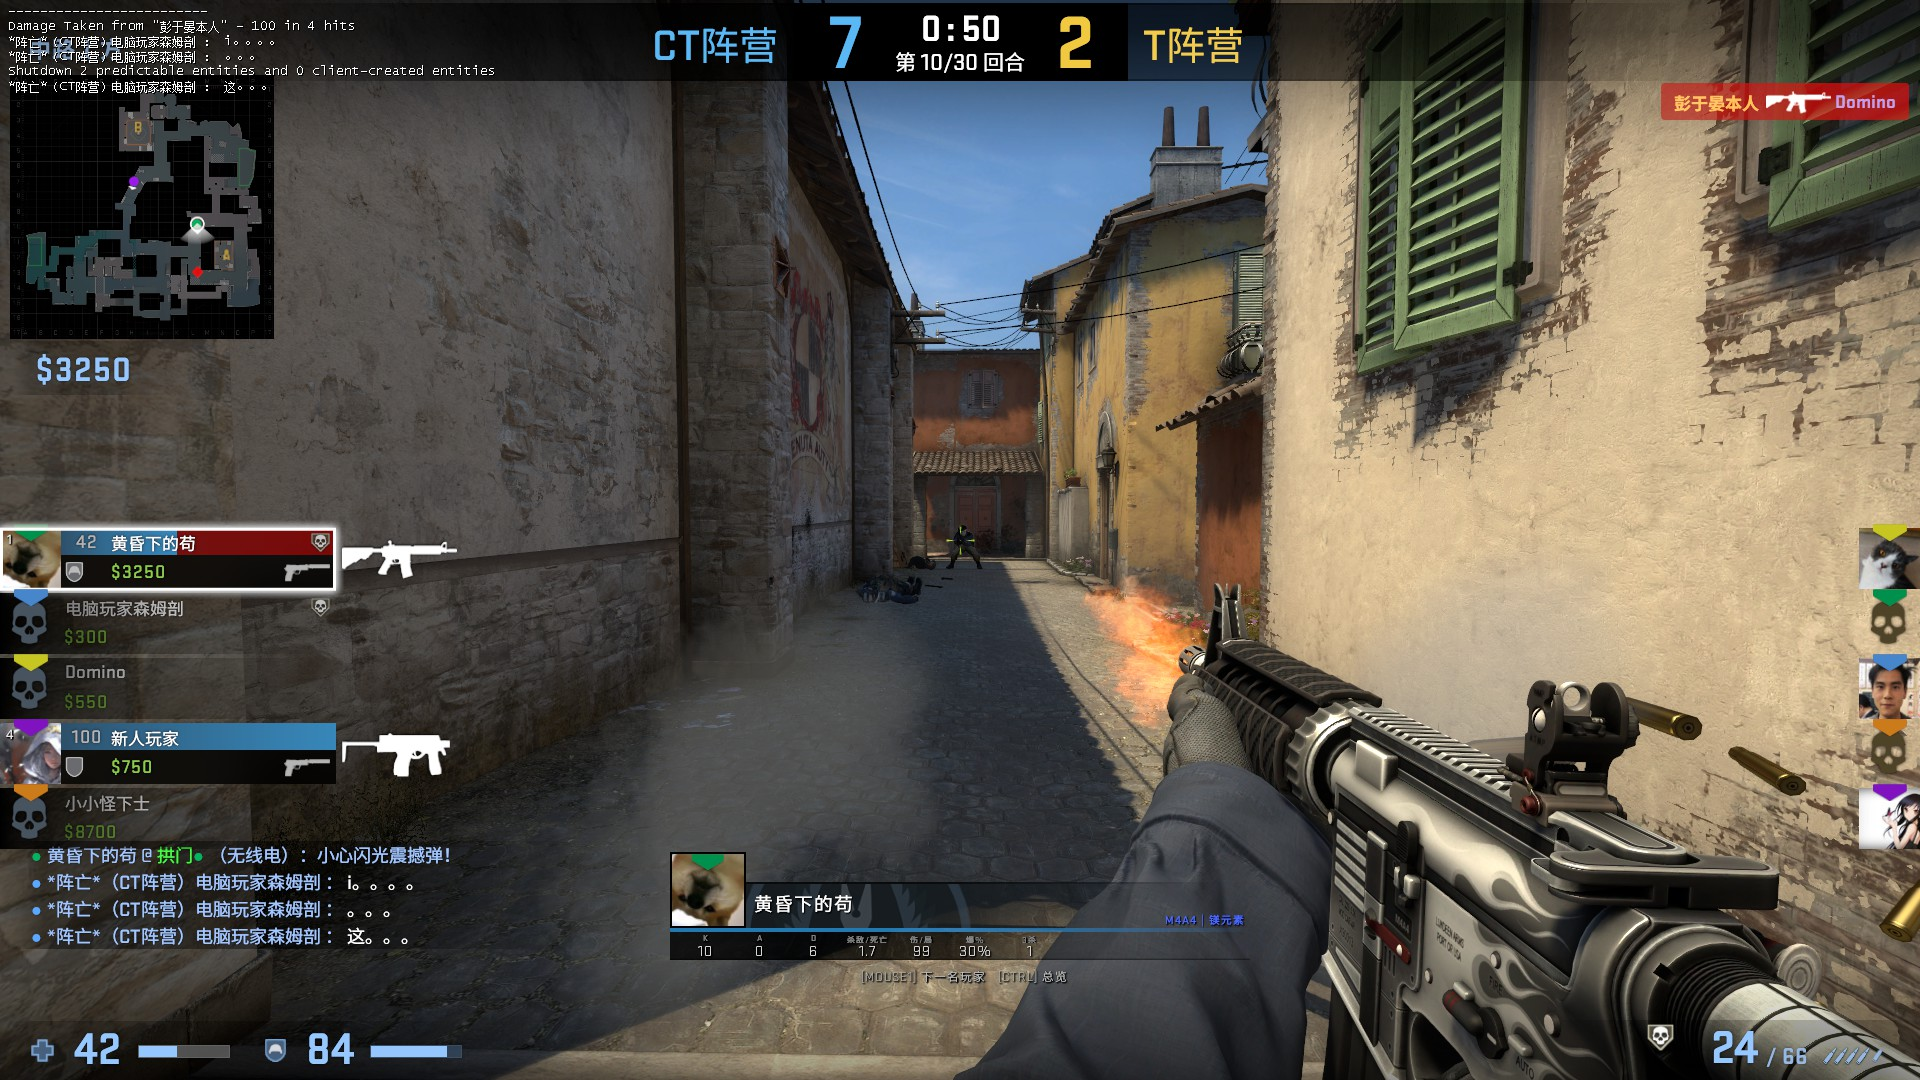head: (956, 524, 968, 537)
